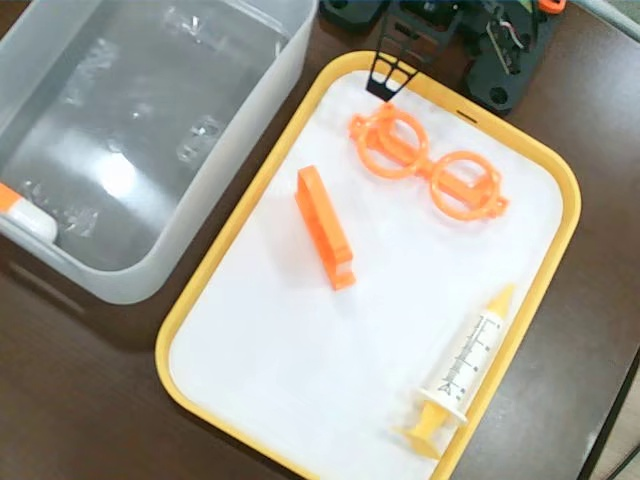pill: (1, 181, 59, 240)
syringe: (391, 278, 523, 466)
